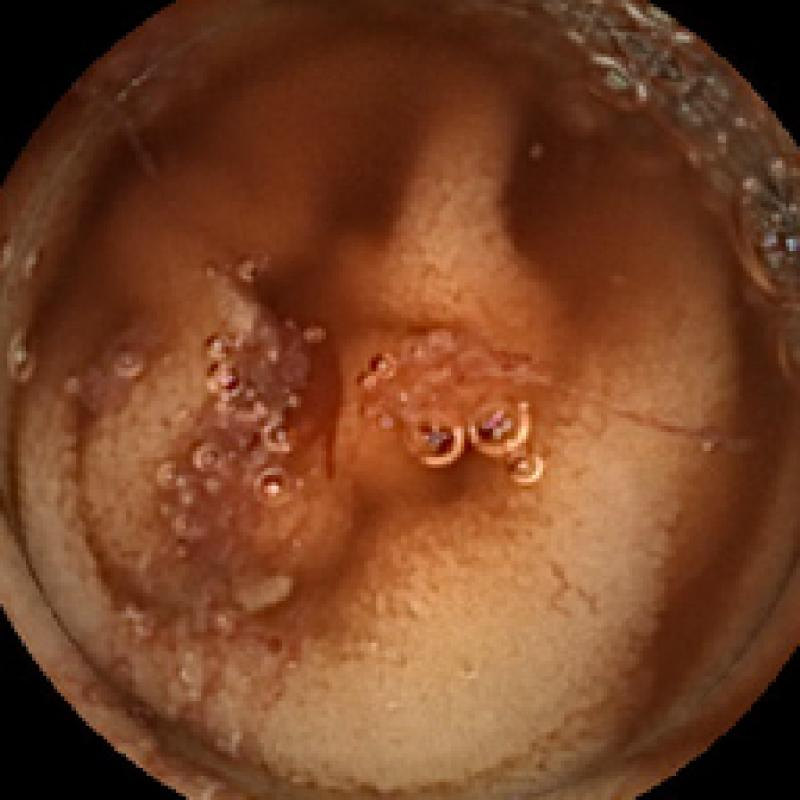bleeding: (168, 296, 346, 568)
